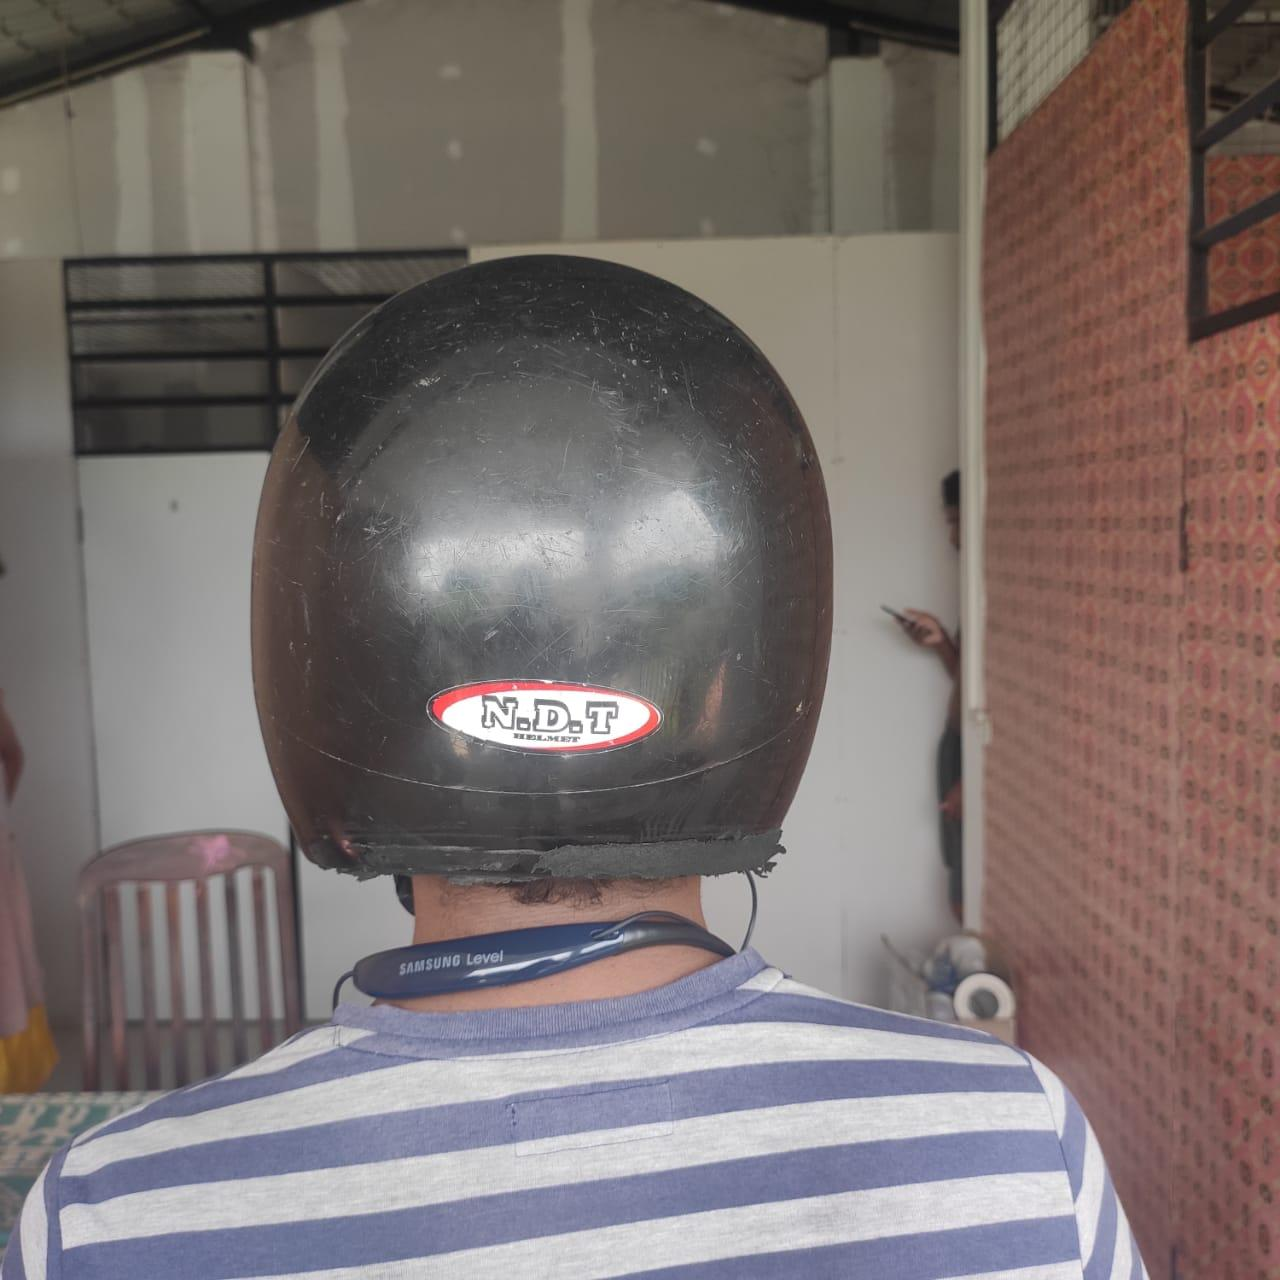helmet: (245, 254, 838, 911)
